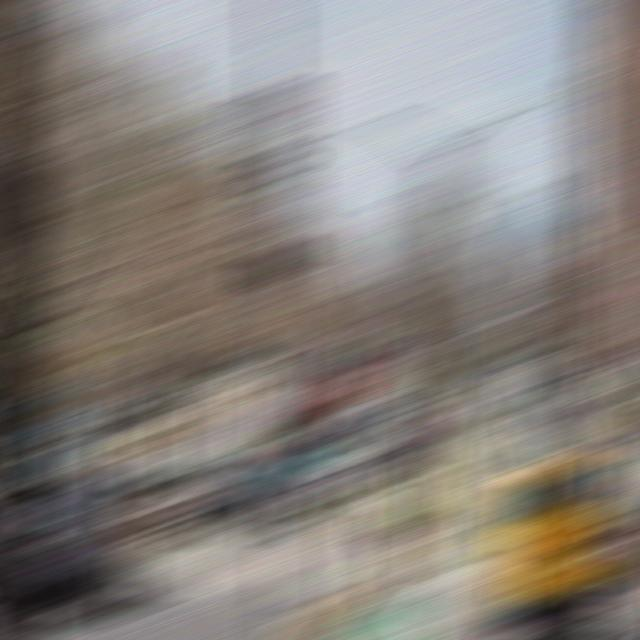speedLimit25: (237, 93, 308, 191)
